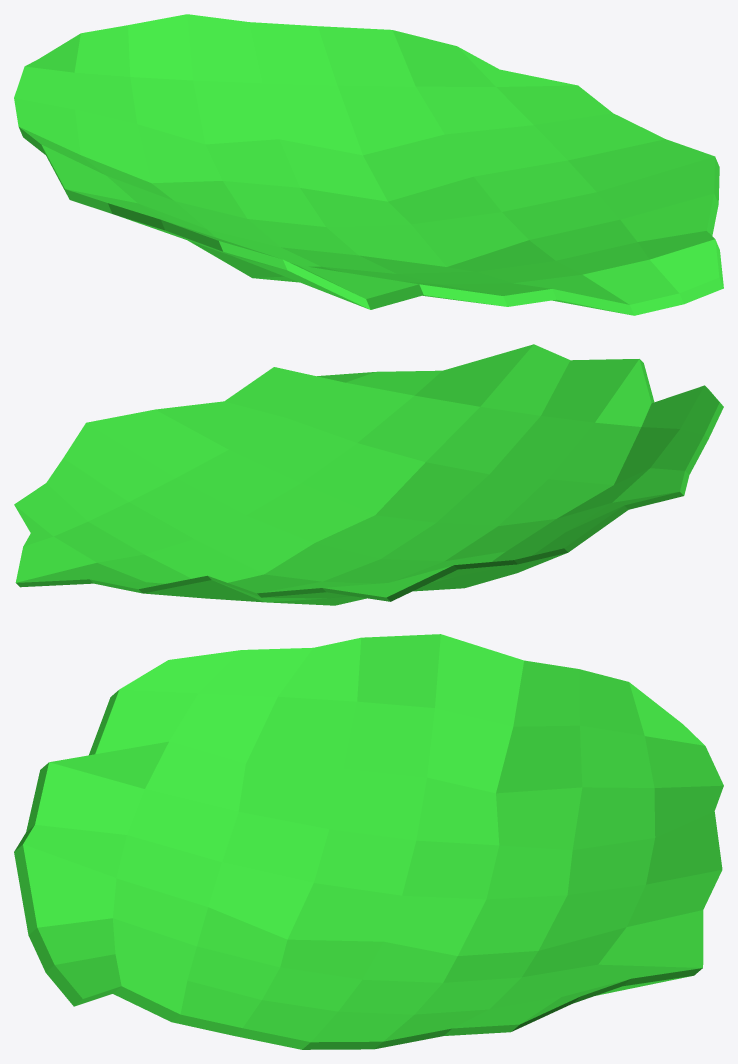
Rendered from LettuceCutModel.fbx.
3 views of the same model, one above another, from view 1: azimuth 30°, elevation 25°; view 2: azimuth 150°, elevation 25°; view 3: azimuth 270°, elevation 25° (orthographic).
Visible parts, largest first — view 1: Lettuce leaf; view 2: Lettuce leaf; view 3: Lettuce leaf.
Part boxes in pixels (<box>): Lettuce leaf: <box>14,14,723,315</box>; Lettuce leaf: <box>14,344,723,605</box>; Lettuce leaf: <box>14,634,723,1049</box>.
Size of the model in its own units: 27.84 by 27.5 by 6.71.
